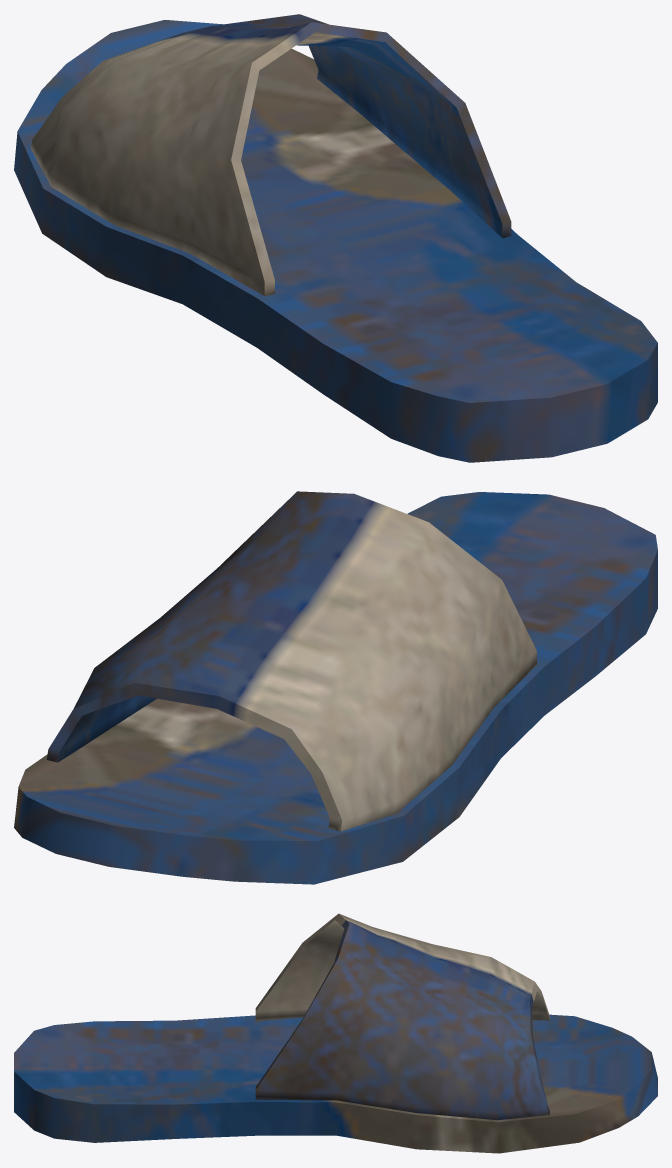
The model's file is slipper01.FBX.
3 renders of one model, top to bottom at view 1: azimuth 30°, elevation 25°; view 2: azimuth 150°, elevation 25°; view 3: azimuth 270°, elevation 25°, orthographic. The views are drawn at different scales.
Visible parts, largest first — view 1: SM_Slipper01; view 2: SM_Slipper01; view 3: SM_Slipper01.
Part boxes in pixels (left/top/right/bottom): SM_Slipper01: left=14, top=14, right=657, bottom=462; SM_Slipper01: left=14, top=491, right=657, bottom=884; SM_Slipper01: left=14, top=913, right=657, bottom=1153.
Size of the model in its own units: 12.76 by 9.25 by 31.38.
1 material, 1 textured.
